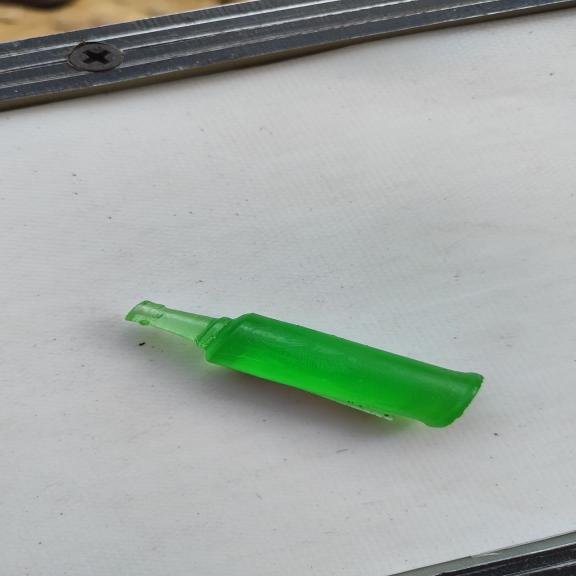Plastik: (123, 300, 485, 428)
